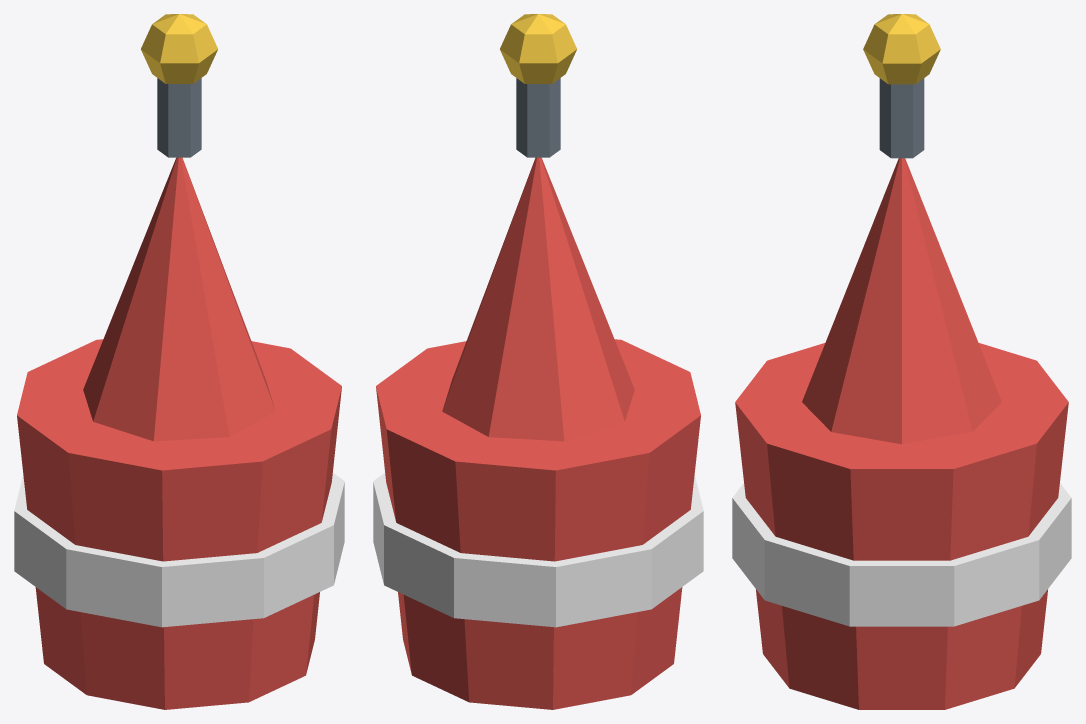
Rendered from prop_buoy.glb.
The picture shows the model from 3 angles, left to right: view 1: azimuth 30°, elevation 25°; view 2: azimuth 150°, elevation 25°; view 3: azimuth 270°, elevation 25°; orthographic projection.
Visible parts, largest first — view 1: prop_buoy; view 2: prop_buoy; view 3: prop_buoy.
Part boxes in pixels (box(x1,y1,x2,y2)): prop_buoy: box(14, 14, 344, 709); prop_buoy: box(373, 14, 703, 709); prop_buoy: box(732, 14, 1071, 709).
Bounding box in the file's own units: 0.5801 × 1.27 × 0.61.
